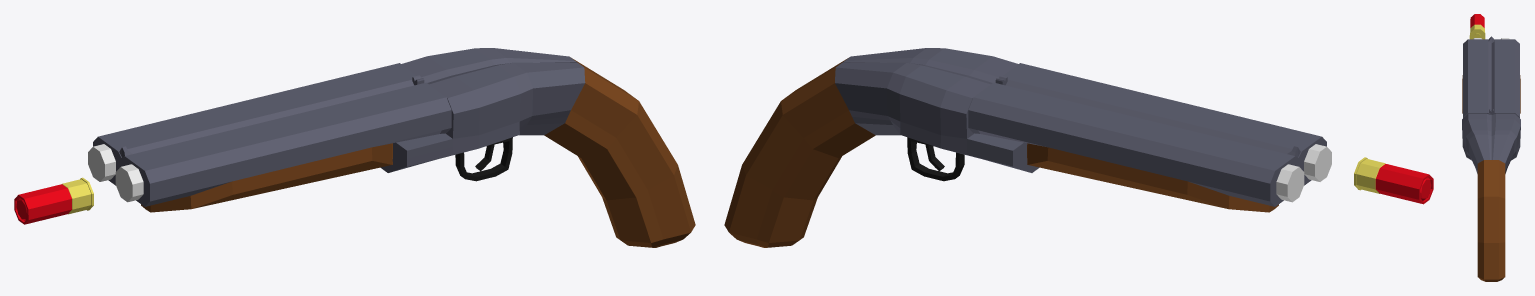
File: shotgun.fbx
The picture shows the model from 3 angles, left to right: view 1: azimuth 30°, elevation 25°; view 2: azimuth 150°, elevation 25°; view 3: azimuth 270°, elevation 25°; orthographic projection. The views are drawn at different scales.
Parts seen in each view (by area): view 1: Barrel, Cube, Cylinder, BoolenBarrel; view 2: Barrel, Cube, Cylinder, BoolenBarrel; view 3: Cube, Barrel, Cylinder.
Part boxes in pixels (<box>): Barrel: <box>93,63,451,212</box>; Cube: <box>380,48,695,247</box>; Cylinder: <box>14,177,93,224</box>; BoolenBarrel: <box>88,144,143,202</box>; Barrel: <box>968,63,1326,212</box>; Cube: <box>724,48,1039,247</box>; Cylinder: <box>1354,157,1433,204</box>; BoolenBarrel: <box>1276,144,1331,202</box>; Cube: <box>1462,113,1520,281</box>; Barrel: <box>1462,36,1520,117</box>; Cylinder: <box>1469,14,1485,39</box>.
Bounding box in the file's own units: 276 × 86.73 × 41.43.
